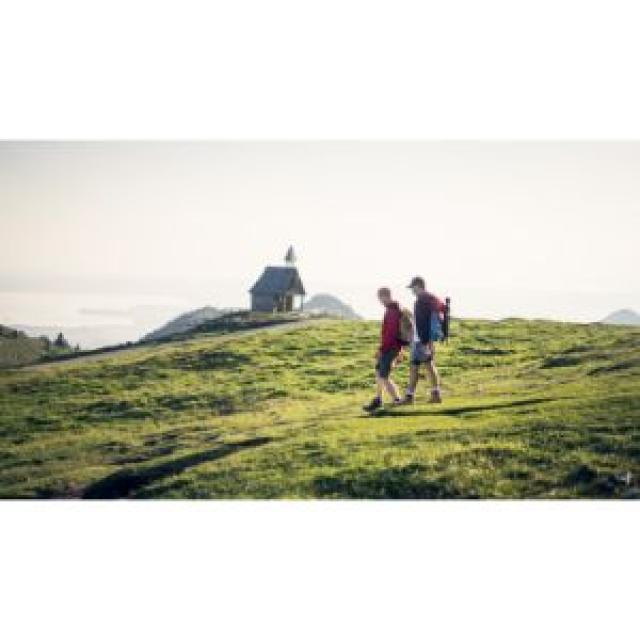nonfall: (406, 262, 460, 420), (357, 279, 414, 420)
